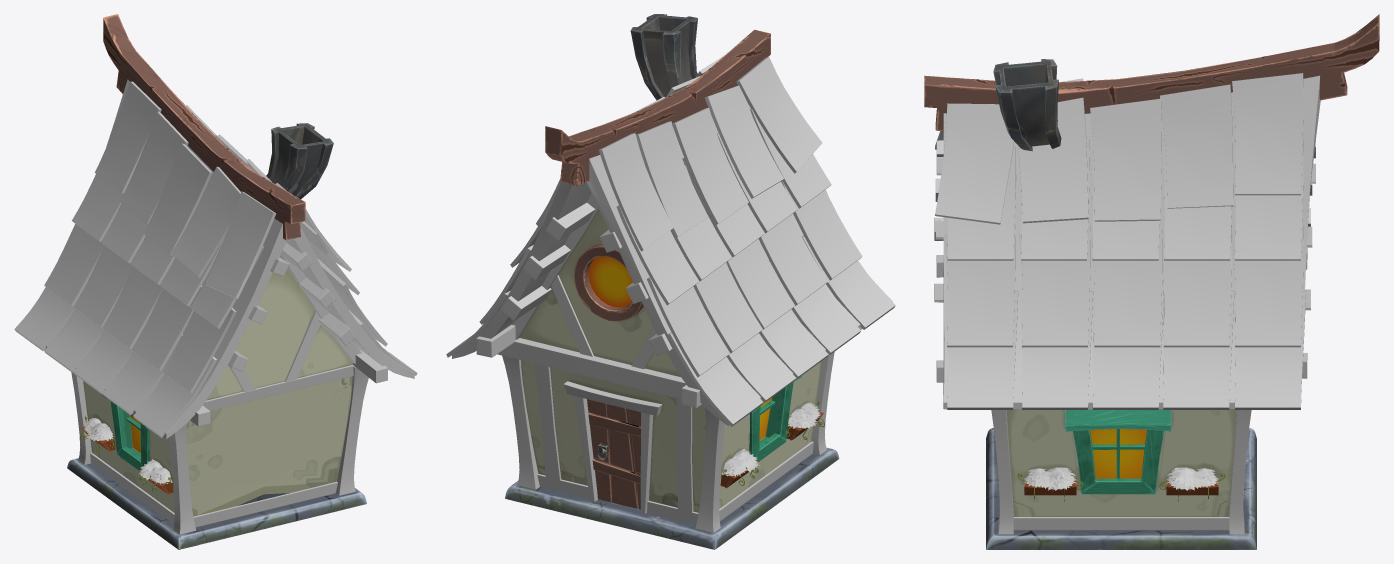
The model's file is Witch House.fbx.
3 views of the same model, side by side, from view 1: azimuth 30°, elevation 25°; view 2: azimuth 150°, elevation 25°; view 3: azimuth 270°, elevation 25° (orthographic). The views are drawn at different scales.
Parts seen in each view (by area): view 1: polySurface1281; view 2: polySurface1281; view 3: polySurface1281.
Boxes of the visible parts, x1,y1,x2,y2 form: polySurface1281: (14,14,417,549); polySurface1281: (446,14,895,549); polySurface1281: (924,14,1379,549).
Bounding box in the file's own units: 35.47 × 44.83 × 51.7.
